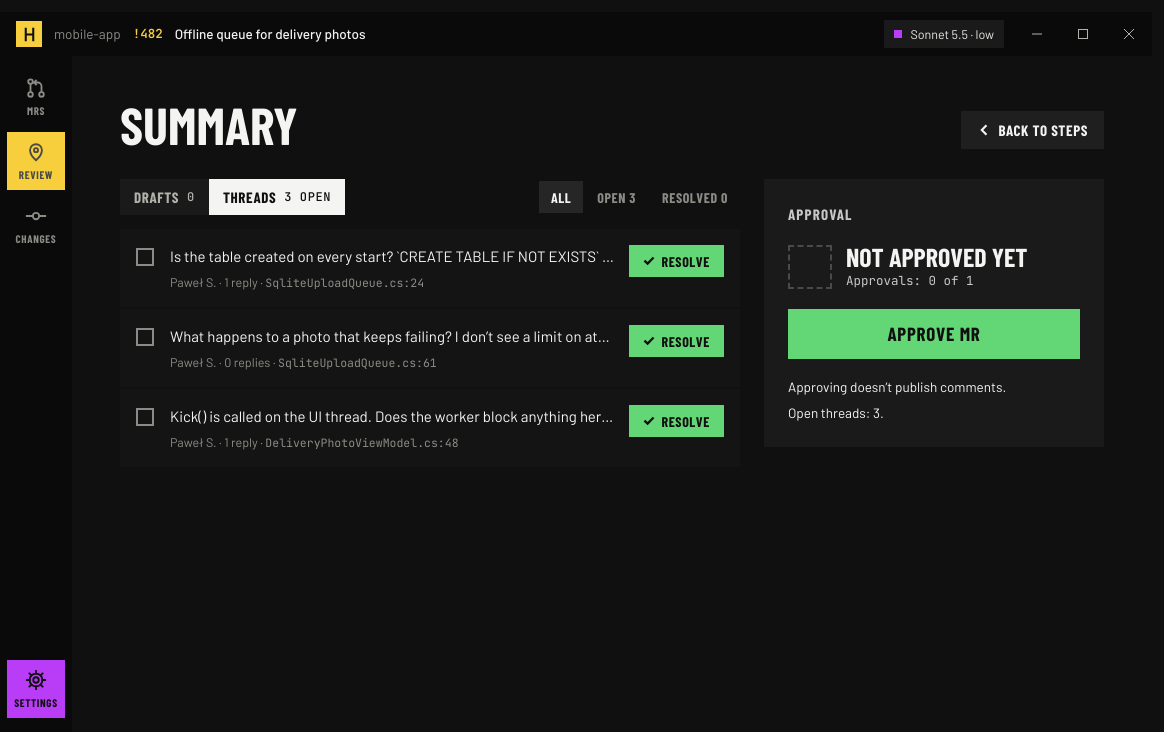
Test: S-05 Approve MR and Revoke approval (F-14.2) › F-14.2 a failed approval shows its message under the button as an alert and changes nothing
Check: the element named "Comments" is shown, box [120,179,345,215]
Click the button "Approve MR" at point(934, 334), box [788,309,1080,359]
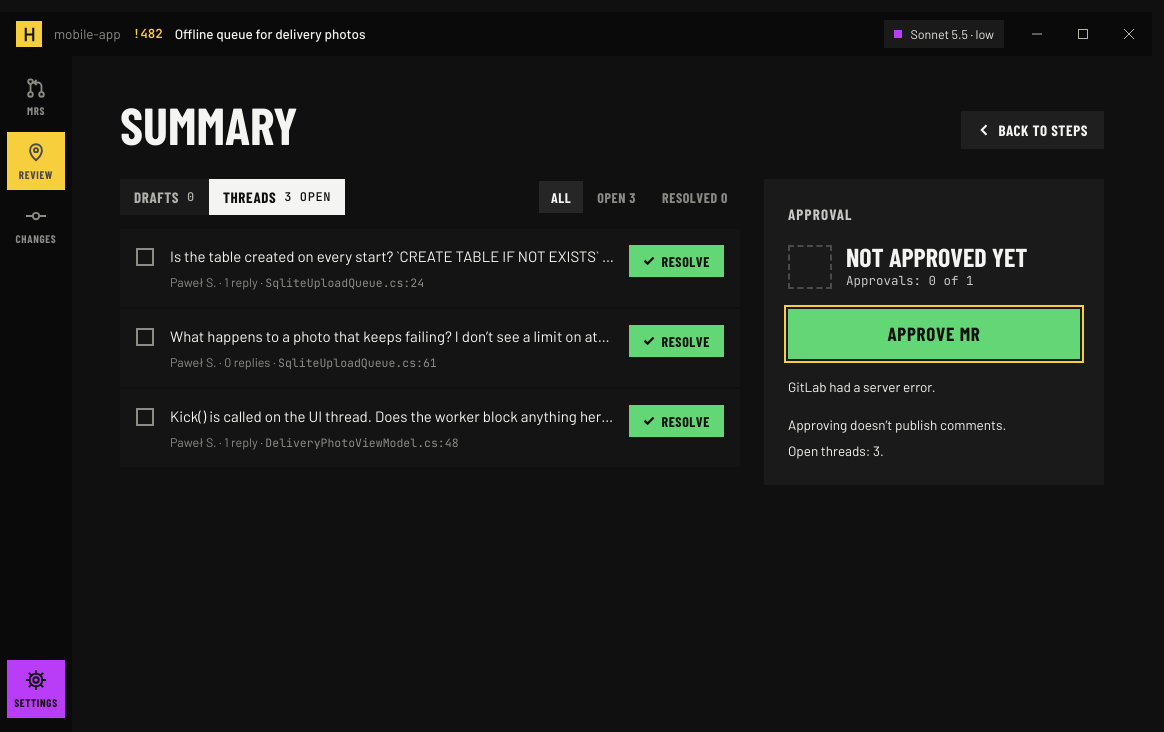
Check: the text "Not approved yet" is shown, box [846,244,1028,270]
Check: the message reads "GitLab had a server error.", box [788,378,936,395]
